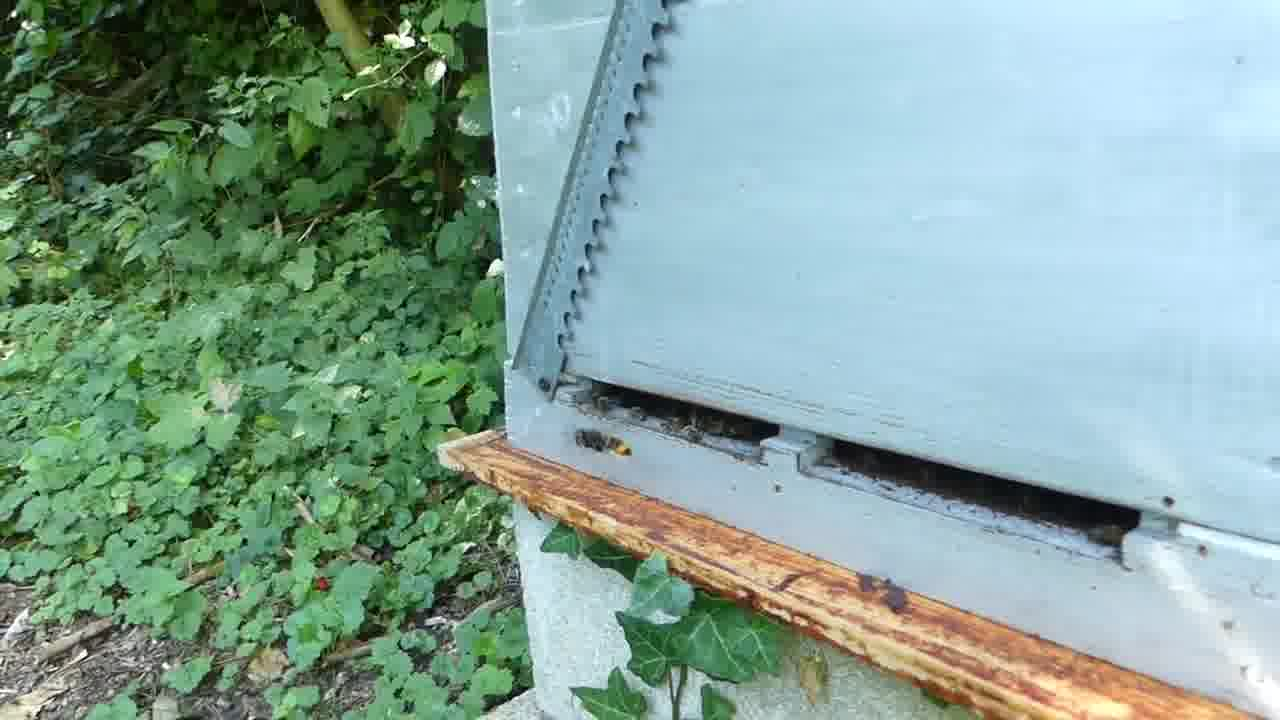hornet: (570, 428, 641, 461)
